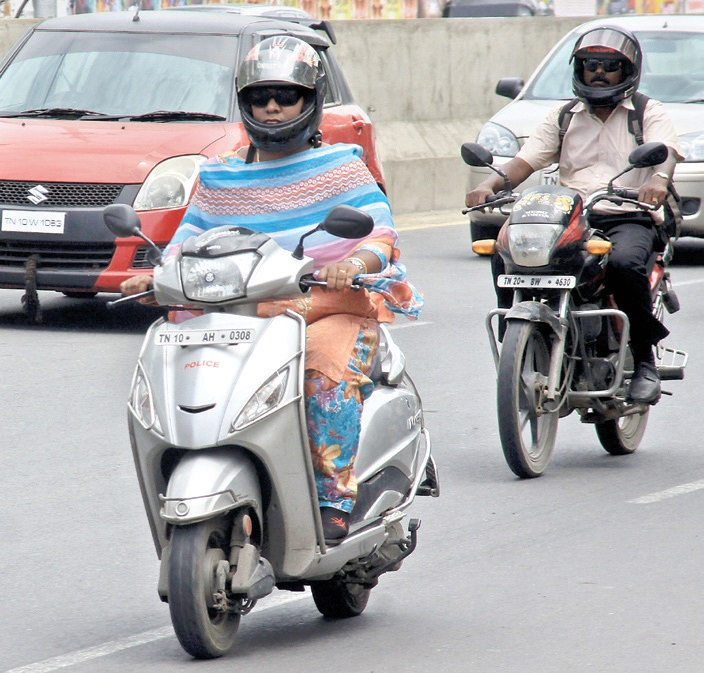helmet: (236, 42, 330, 135), (563, 24, 643, 98)
